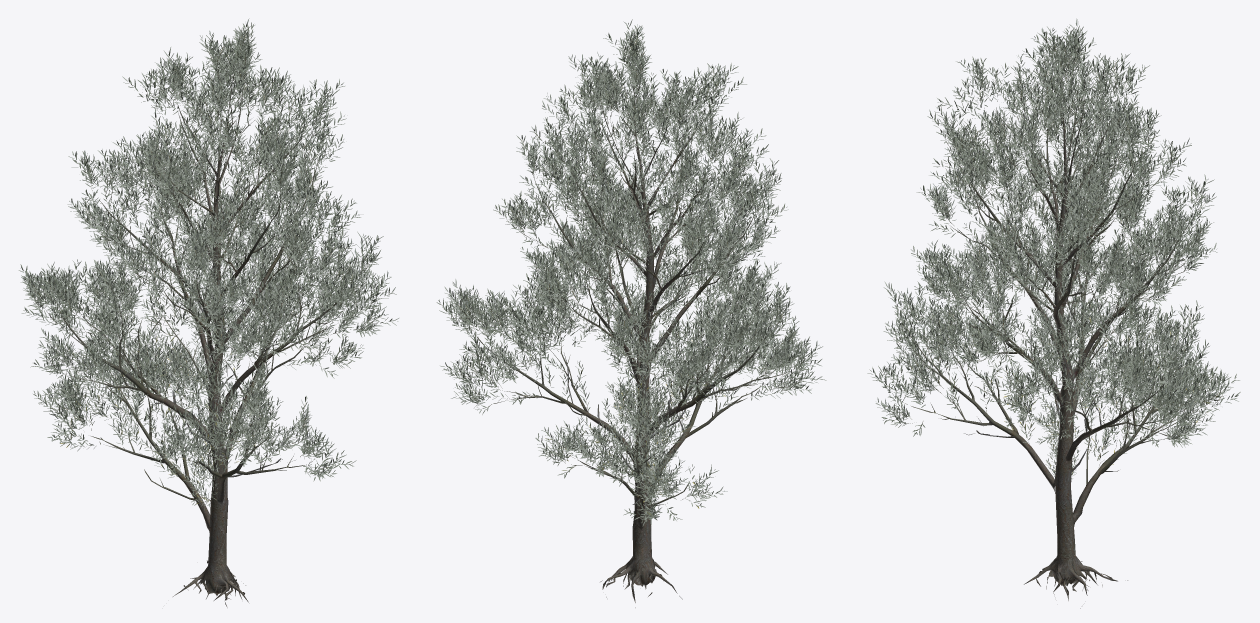
Rendered from salix-alba-ld-s53.glb.
3 renders of one model, left to right at view 1: azimuth 30°, elevation 25°; view 2: azimuth 150°, elevation 25°; view 3: azimuth 270°, elevation 25°, orthographic. The views are drawn at different scales.
Parts seen in each view (by area): view 1: ForestPlantCatalog_salix-alba-ld-s53; view 2: ForestPlantCatalog_salix-alba-ld-s53; view 3: ForestPlantCatalog_salix-alba-ld-s53.
Part boxes in pixels (x1,y1,x2,y2): ForestPlantCatalog_salix-alba-ld-s53: (18,18,398,607); ForestPlantCatalog_salix-alba-ld-s53: (436,19,826,607); ForestPlantCatalog_salix-alba-ld-s53: (867,18,1240,608).
Size of the model in its own units: 9.29 by 14.5 by 8.66.
Materials: 12 (12 with a texture image).
